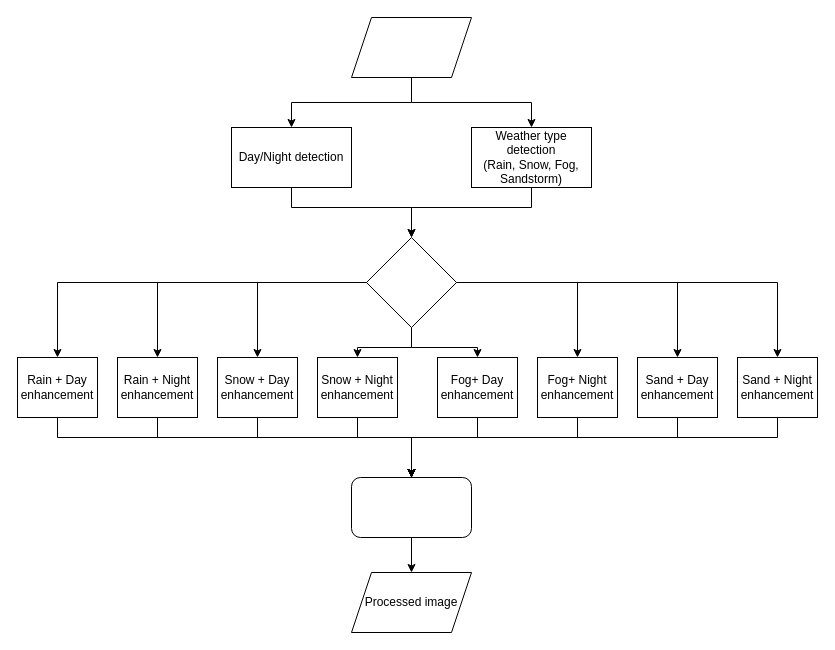
The diagram is 835 pixels wide and 650 high, and some of its shapes have lost their labels. Here are the shapes that lost their labels. From the top down, the centre of each, then its label:
point 411,47: Image
point 411,282: Weather + time check
point 411,507: Object detection using a self trained YOLOv8n
